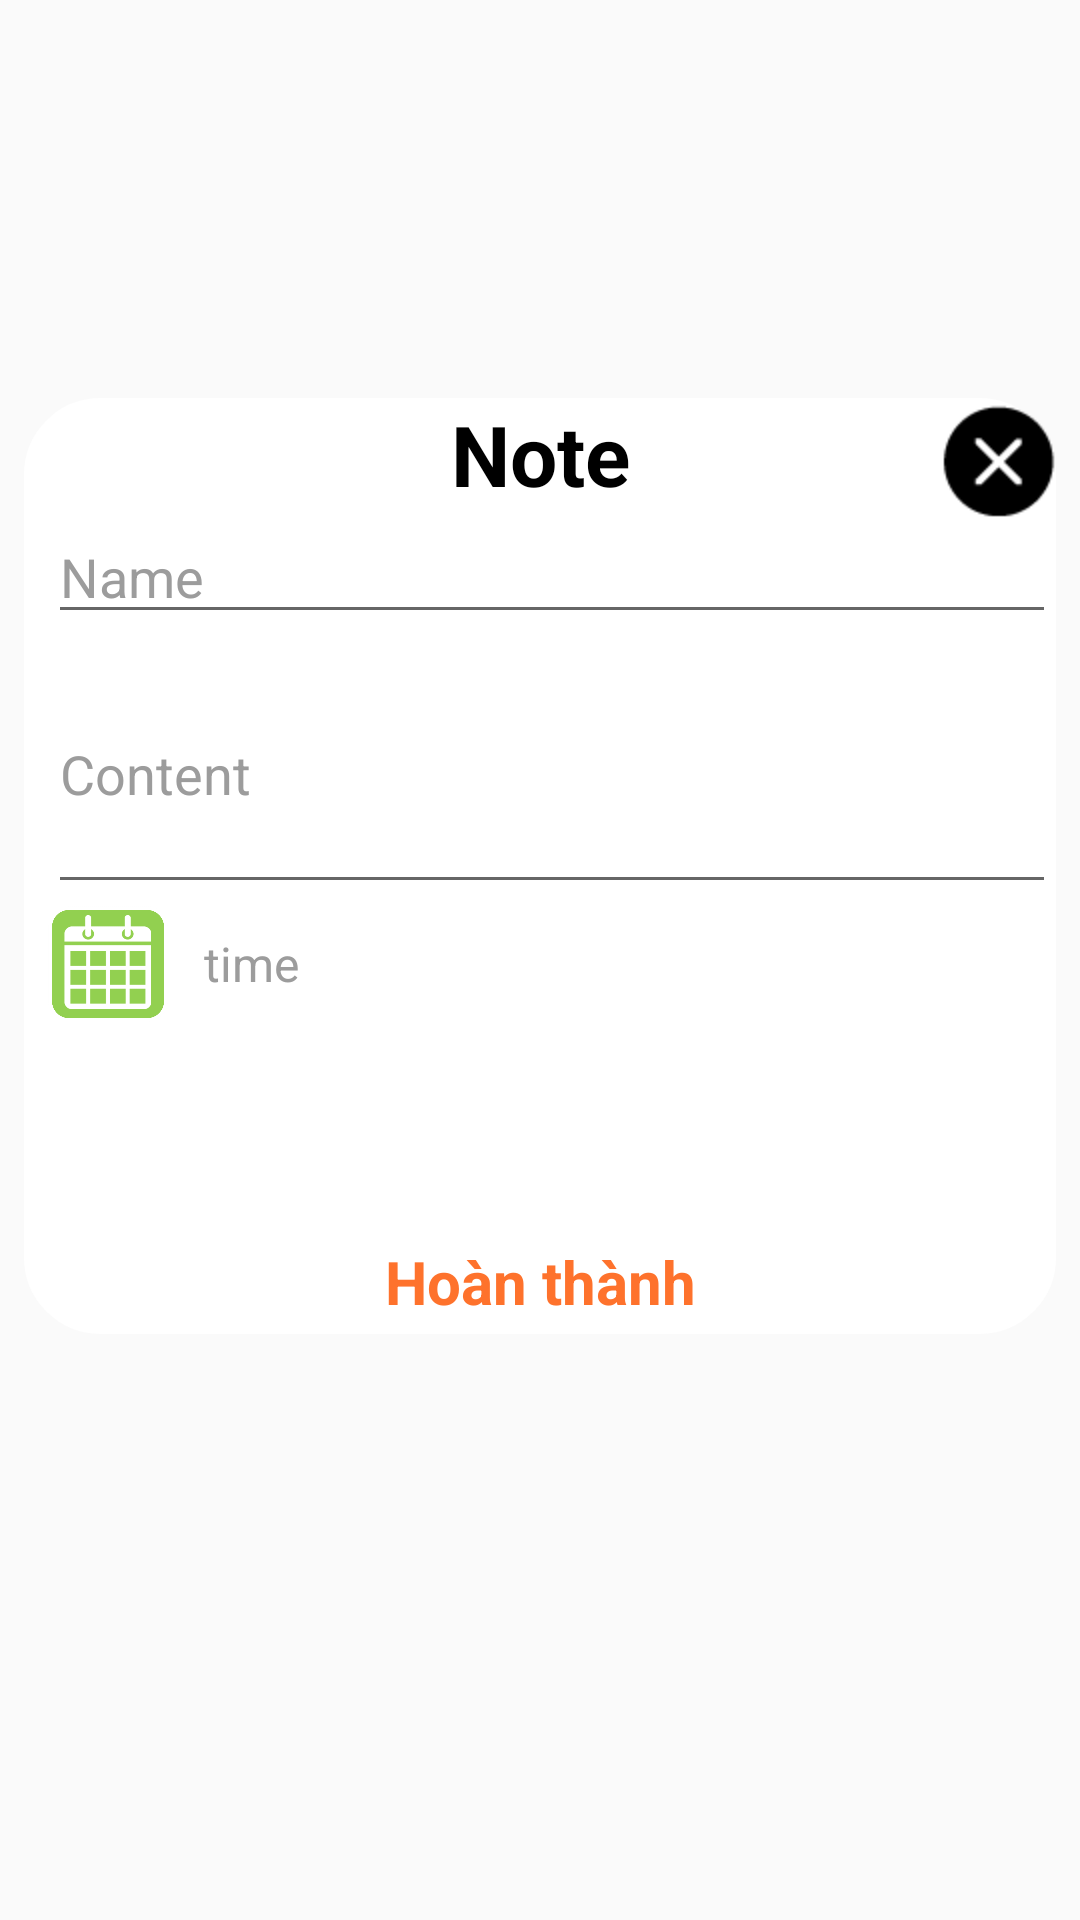

Locate icon controls on the screen. Image size 1080 x 1920, boxes as [x1, y1, x2, y2].
calendar: [52, 910, 164, 1018]
close: [943, 406, 1055, 517]
